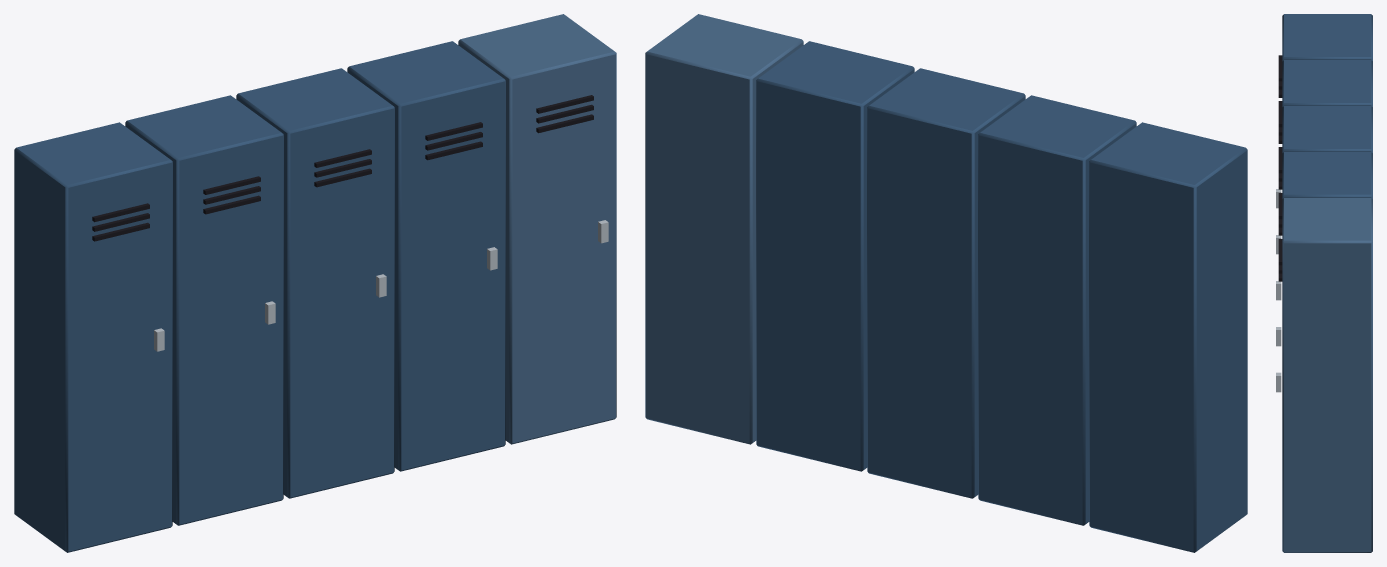
Rendered from locker_bank.glb.
3 views of the same model, side by side, from view 1: azimuth 30°, elevation 25°; view 2: azimuth 150°, elevation 25°; view 3: azimuth 270°, elevation 25° (orthographic). The views are drawn at different scales.
Parts seen in each view (by area): view 1: locker_bank; view 2: locker_bank; view 3: locker_bank.
Part boxes in pixels (bbox=[...]): locker_bank: bbox=[14, 14, 616, 552]; locker_bank: bbox=[645, 14, 1247, 552]; locker_bank: bbox=[1276, 14, 1372, 552].
Bounding box in the file's own units: 2.98 × 1.9 × 0.535.
